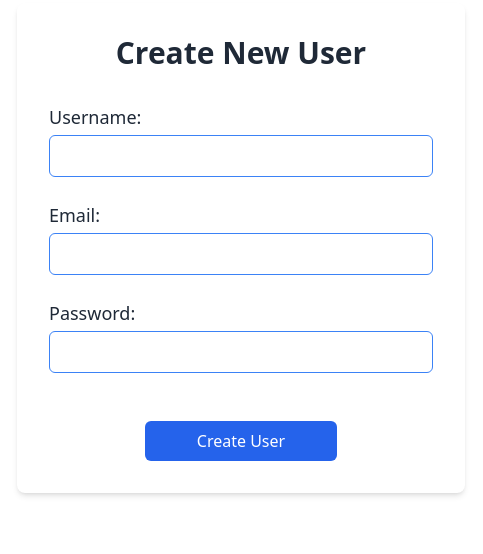
Test: CreateUserForm Component › should show an error message if fields are empty on submission
Click the submit button
Click the button "Create User" at {"x": 241, "y": 441}, box [145, 421, 337, 461]
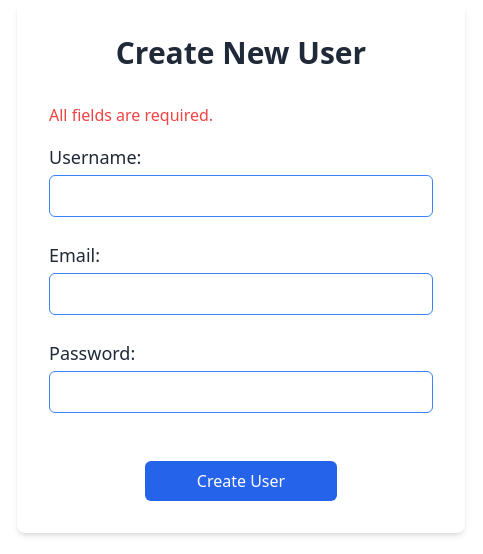
Check: the text "All fields are required." is shown, box [49, 104, 213, 126]
